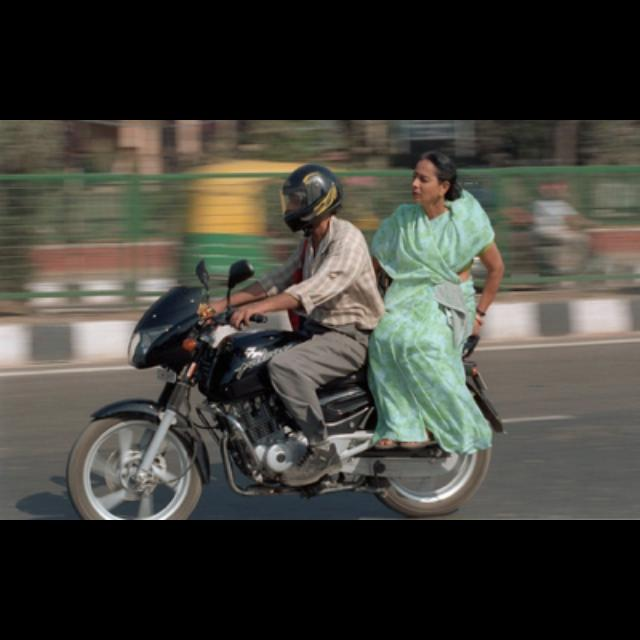With Helmet: (274, 160, 350, 232)
